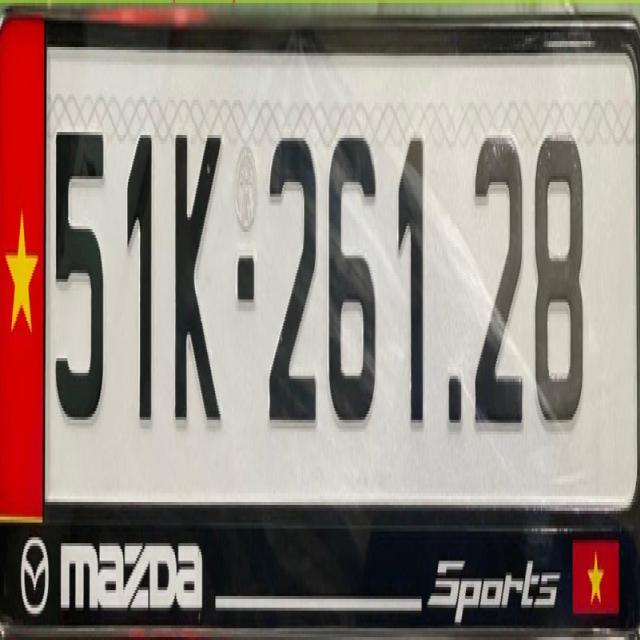1: (122, 109, 160, 459), (394, 121, 432, 442)
2: (266, 126, 318, 435), (474, 129, 526, 437)
5: (51, 109, 108, 447)
6: (325, 121, 380, 432)
8: (531, 128, 586, 430)
K: (171, 119, 225, 447)
